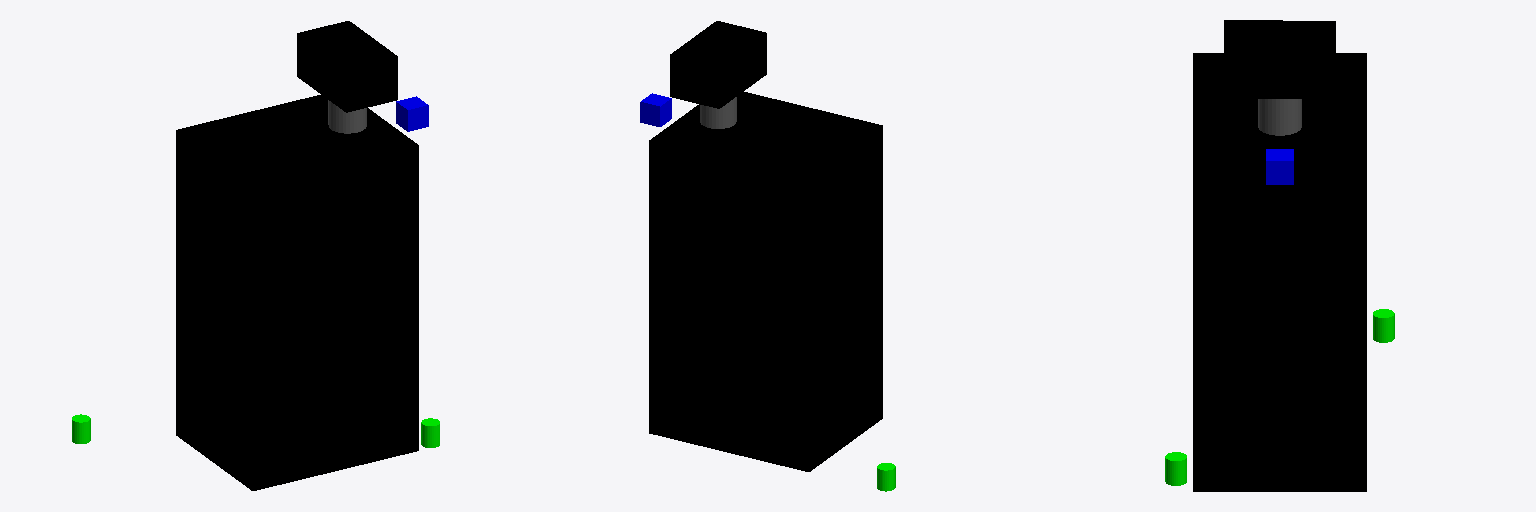
The robot description file, URDF, robot "ranger_mini_v3":
<?xml version="1.0" encoding="utf-8"?>
<!-- URDF para el Ranger Mini con materiales mate y un láser en verde, 
     asegurando que cada "collision" tenga el mismo <origin> que "visual". -->
<robot name="ranger_mini_v3">

  <!-- ==================== Base Footprint (nivel del suelo) ==================== -->
  <link name="base_footprint"/>

  <joint name="base_footprint_joint" type="fixed">
    <parent link="base_footprint"/>
    <child link="base_link"/>
    <origin xyz="0 0 0.325" rpy="0 0 0"/> <!-- Eleva base_link 10 cm -->
  </joint>

  <!-- ==================== base_link ==================== -->
  <link name="base_link">
    <inertial>
      <origin xyz="-0.0242698272228022 -0.0030308024613212 0.0544267444673498" rpy="0 0 0" />
      <mass value="0.162715996120322" />
      <inertia
        ixx="0.000723700192916944"
        ixy="-1.55745142682799E-08"
        ixz="-3.42378773027466E-12"
        iyy="0.000744046536331603"
        iyz="2.24935144207573E-07"
        izz="2.14412578189702E-05" />
    </inertial>

    <!-- Visual -->
    <visual>
      <!-- Tenías rpy="3.14 0 0" en visual -->
      <origin xyz="0 0 0.0" rpy="3.14 0 0" />
      <geometry>
        <mesh filename="package://sancho_description/meshes/ranger_mini3.stl" />
      </geometry>
      <material name="base_matte_gray">
        <color rgba="0.5 0.5 0.5 1.0" />
      </material>
    </visual>

    <!-- Collision: ahora coincide con el visual -->
    <collision>
      <origin xyz="0 0 0.0" rpy="3.14 0 0" />
      <geometry>
        <mesh filename="package://sancho_description/meshes/ranger_mini3.stl" />
      </geometry>
    </collision>
  </link>

  <!-- ==================== Frente Derecho (fr_Link) ==================== -->
  <link name="fr_Link">
    <inertial>
      <origin xyz="1.8493E-05 1.2713E-06 0.043679" rpy="0 0 0" />
      <mass value="2.2786" />
      <inertia
        ixx="0.0063625"
        ixy="-1.0581E-07"
        ixz="-4.0831E-07"
        iyy="0.006363"
        iyz="-3.4944E-08"
        izz="0.010465" />
    </inertial>

    <!-- Visual -->
    <visual>
      <origin xyz="-0.248 -0.113 0.155" rpy="1.57 0 3.14" />
      <geometry>
        <mesh filename="package://sancho_description/meshes/ranger_mini_v3_wheel_right.dae" />
      </geometry>
      <material name="wheel_matte_gray">
        <color rgba="0.3 0.3 0.3 1.0" />
      </material>
    </visual>

    <!-- Collision: unificado con el visual -->
    <collision>
      <origin xyz="-0.248 -0.113 0.155" rpy="1.57 0 3.14" />
      <geometry>
        <mesh filename="package://sancho_description/meshes/ranger_mini_v3_wheel_right.dae" />
      </geometry>
    </collision>
  </link>

  <joint name="fr_joint" type="continuous">
    <origin xyz="0.25 -0.19 -0.1" rpy="0 0 0" />
    <parent link="base_link" />
    <child link="fr_Link" />
    <axis xyz="0 0 -1" />
  </joint>

  <!-- ==================== Frente Izquierdo (fl_Link) ==================== -->
  <link name="fl_Link">
    <inertial>
      <origin xyz="-0.0017956 -9.6304E-08 0.043642" rpy="0 0 0" />
      <mass value="2.2786" />
      <inertia
        ixx="0.0063695"
        ixy="-2.1067E-08"
        ixz="-0.00016867"
        iyy="0.006363"
        iyz="-1.0301E-08"
        izz="0.010458" />
    </inertial>

    <!-- Visual -->
    <visual>
      <origin xyz="-0.248 0.1265 0.191" rpy="-1.57 0.0 3.14" />
      <geometry>
        <mesh filename="package://sancho_description/meshes/ranger_mini_v3_wheel.dae" />
      </geometry>
      <material name="wheel_matte_gray">
        <color rgba="0.3 0.3 0.3 1.0" />
      </material>
    </visual>

    <!-- Collision: unificado con el visual -->
    <collision>
      <origin xyz="-0.248 0.1265 0.191" rpy="-1.57 0.0 3.14" />
      <geometry>
        <mesh filename="package://sancho_description/meshes/ranger_mini_v3_wheel.dae" />
      </geometry>
    </collision>
  </link>

  <joint name="fl_joint" type="continuous">
    <origin xyz="0.25 0.19 -0.1" rpy="3.1416 0 0" />
    <parent link="base_link" />
    <child link="fl_Link" />
    <axis xyz="0.041054 0 -0.99916" />
  </joint>

  <!-- ==================== Parte Trasera Derecha (br_Link) ==================== -->
  <link name="br_Link">
    <inertial>
      <origin xyz="-0.00017093 6.1255E-08 0.043678" rpy="0 0 0" />
      <mass value="2.2786" />
      <inertia
        ixx="0.0063627"
        ixy="-2.1069E-08"
        ixz="-1.587E-05"
        iyy="0.006363"
        iyz="9.3201E-09"
        izz="0.010465" />
    </inertial>

    <!-- Visual -->
    <visual>
      <origin xyz="-0.241 -0.11 0.155" rpy="1.57 0 3.14" />
      <geometry>
        <mesh filename="package://sancho_description/meshes/ranger_mini_v3_wheel_right.dae" />
      </geometry>
      <material name="wheel_matte_gray">
        <color rgba="0.3 0.3 0.3 1.0" />
      </material>
    </visual>

    <!-- Collision: unificado con el visual -->
    <collision>
      <origin xyz="-0.241 -0.11 0.155" rpy="1.57 0 3.14" />
      <geometry>
        <mesh filename="package://sancho_description/meshes/ranger_mini_v3_wheel_right.dae" />
      </geometry>
    </collision>
  </link>

  <joint name="br_joint" type="continuous">
    <origin xyz="-0.25 -0.19 -0.1" rpy="0 0 0" />
    <parent link="base_link" />
    <child link="br_Link" />
    <axis xyz="0.0039668 0 -0.99999" />
  </joint>

  <!-- ==================== Parte Trasera Izquierda (bl_Link) ==================== -->
  <link name="bl_Link">
    <inertial>
      <origin xyz="-0.0011575 -4.8644E-06 0.043663" rpy="0 0 0" />
      <mass value="2.2786" />
      <inertia
        ixx="0.0063656"
        ixy="-8.1498E-08"
        ixz="-0.00011049"
        iyy="0.006363"
        iyz="6.6847E-08"
        izz="0.010462" />
    </inertial>

    <!-- Visual -->
    <visual>
      <origin xyz="-0.241 0.13 0.2" rpy="-1.57 0.0 3.14" />
      <geometry>
        <mesh filename="package://sancho_description/meshes/ranger_mini_v3_wheel.dae" />
      </geometry>
      <material name="wheel_matte_gray">
        <color rgba="0.3 0.3 0.3 1.0" />
      </material>
    </visual>

    <!-- Collision: unificado con el visual -->
    <collision>
      <origin xyz="-0.241 0.13 0.2" rpy="-1.57 0.0 3.14" />
      <geometry>
        <mesh filename="package://sancho_description/meshes/ranger_mini_v3_wheel.dae" />
      </geometry>
    </collision>
  </link>

  <joint name="bl_joint" type="continuous">
    <origin xyz="-0.25 0.19 -0.1" rpy="3.1416 0 0" />
    <parent link="base_link" />
    <child link="bl_Link" />
    <axis xyz="0.027043 0 -0.99963" />
  </joint>

  <!-- ==================== Láseres ==================== -->

  <!-- Láser Frontal -->
  <!-- Se publicará en el topic 'scan_1st' con frame_id 'laser_front' -->
  <link name="laser_front">
    <inertial>
      <origin xyz="0 0 0" rpy="0 0 0"/>
      <mass value="0.1"/>
      <inertia ixx="0.001" iyy="0.001" izz="0.001" ixy="0" ixz="0" iyz="0"/>
    </inertial>

    <visual>
      <origin xyz="0 0 0" rpy="0 0 0"/>
      <geometry>
        <cylinder length="0.05" radius="0.02"/>
      </geometry>
      <material name="laser_green">
        <color rgba="0.0 1.0 0.0 1.0"/>
      </material>
    </visual>

    <!-- Collision coincide con visual -->
    <collision>
      <origin xyz="0 0 0" rpy="0 0 0"/>
      <geometry>
        <cylinder length="0.05" radius="0.02"/>
      </geometry>
    </collision>
  </link>

  <joint name="base_to_laser_front" type="fixed">
    <!-- Ajusta si necesitas mover el láser frontal en X/Y/Z -->
    <origin xyz="0.31 -0.19 0.04" rpy="0 0 -0.785398"/>
    <parent link="base_link"/>
    <child link="laser_front"/>
  </joint>

  <!-- Láser Trasero -->
  <!-- Se publicará en el topic 'scan_2nd' con frame_id 'laser_back' -->
  <link name="laser_back">
    <inertial>
      <origin xyz="0 0 0" rpy="0 0 0"/>
      <mass value="0.1"/>
      <inertia ixx="0.001" iyy="0.001" izz="0.001" ixy="0" ixz="0" iyz="0"/>
    </inertial>

    <visual>
      <origin xyz="0 0 0" rpy="0 0 0"/>
      <geometry>
        <cylinder length="0.05" radius="0.02"/>
      </geometry>
      <material name="laser_green">
        <color rgba="0.0 1.0 0.0 1.0"/>
      </material>
    </visual>

    <!-- Collision coincide con visual -->
    <collision>
      <origin xyz="0 0 0" rpy="0 0 0"/>
      <geometry>
        <cylinder length="0.05" radius="0.02"/>
      </geometry>
    </collision>
  </link>

  <joint name="base_to_laser_back" type="fixed">
    <!-- Ubicación en la parte trasera (eje X negativo) -->
    <origin xyz="-0.31 0.19 0.04" rpy="0 0 2.35619"/>
    <parent link="base_link"/>
    <child link="laser_back"/>
  </joint>

  <!-- Astra Cámara -->
  <link name="astra_camera_link">
      <visual>
          <geometry>
              <box size="0.05 0.05 0.05"/> <!-- Representación visual de la cámara -->
          </geometry>
          <material name="camera_blue">
            <color rgba="0.0 0.0 1.0 1.0"/>
          </material>
      </visual>
  </link>

  <!-- Unión de la cámara con la base -->
  <joint name="base_to_camera" type="fixed">
      <parent link="base_link"/>
      <child link="astra_camera_link"/>
      <origin xyz="0.375 0 0.68" rpy="0 0 0"/> <!-- Posición y orientación de la cámara -->
  </joint>
<!-- Cuadro Negro (desde el centro hasta el borde superior, hasta la cámara) -->
<link name="body_link">
  <visual>
    <origin xyz="0.1 0 0.34" rpy="0 0 0"/>
    <geometry>
      <box size="0.4 0.32 0.7"/>
    </geometry>
    <material name="black_material">
      <color rgba="0 0 0 1.0"/>
    </material>
  </visual>
  <collision>
    <origin xyz="0.1 0 0.34" rpy="0 0 0"/>
    <geometry>
      <box size="0.4 0.32 0.7"/>
    </geometry>
  </collision>
</link>

<joint name="body_link_joint" type="fixed">
  <parent link="base_link"/>
  <child link="body_link"/>
  <origin xyz="0 0 0" rpy="0 0 0"/>
</joint>

<!-- Link para el eje de paneo (base de la torreta) -->
<link name="turret_pan_link">
  <visual>
    <geometry>
      <cylinder radius="0.04" length="0.08"/>
    </geometry>
    <origin xyz="0 0 0" rpy="0 0 0"/>
    <material name="black">
      <color rgba="0.4 0.4 0.4 1"/>
    </material>
  </visual>
</link>

<joint name="pan" type="revolute">
  <parent link="body_link"/> <!-- Ahora se monta directamente sobre el cuerpo -->
  <child link="turret_pan_link"/>
  <origin xyz="0.22 0 0.725" rpy="0 0 0"/> <!-- Ajustado para quedar encima del cuerpo -->
  <axis xyz="0 0 1"/>
  <limit lower="-3.14" upper="3.14" effort="1.0" velocity="1.0"/>
</joint>

<!-- Link para la inclinación (tilt) -->
<link name="turret_tilt_link">
  <visual>
    <geometry>
      <box size="0.05 0.1 0.025"/>
    </geometry>
    <origin xyz="0 0 0" rpy="0 0 0"/>
    <material name="gray">
      <color rgba="0.3 0.3 0.3 1"/>
    </material>
  </visual>
</link>

<joint name="tilt" type="revolute">
  <parent link="turret_pan_link"/>
  <child link="turret_tilt_link"/>
  <origin xyz="0 0 0.05" rpy="0 0 0"/>
  <axis xyz="0 1 0"/>
  <limit lower="-1.57" upper="1.57" effort="1.0" velocity="1.0"/>
</joint>

<!-- Cabeza encima de la torreta -->
<link name="head_link">
  <visual>
    <origin xyz="0 0 0.05" rpy="0 0 1.57"/> <!-- Un poco más arriba de tilt -->
    <geometry>
      <box size="0.205 0.125 0.1"/>
    </geometry>
    <material name="head_gray">
      <color rgba="0 0 0 1.0"/>
    </material>
  </visual>
</link>

<joint name="tilt_to_head" type="fixed">
  <parent link="turret_tilt_link"/>
  <child link="head_link"/>
  <origin xyz="0 0 0" rpy="0 0 0"/>
</joint>

<link name="nose_camera_link">
  <visual>
    <origin xyz="0 0 0" rpy="0 0 0"/>
    <geometry>
      <box size="0.03 0.03 0.03"/>
    </geometry>
    <material name="red"><color rgba="1 0 0 1"/></material>
  </visual>
</link>

<joint name="head_to_nose_camera" type="fixed">
  <parent link="head_link"/>
  <child link="nose_camera_link"/>
  <origin xyz="0.037 0.0 0.061" rpy="0 0 0"/>
</joint>



</robot>

--- Render facts (derived) ---
Views: 3 orthographic renders of the robot side by side, from view 1: azimuth 30°, elevation 25°; view 2: azimuth 150°, elevation 25°; view 3: azimuth 270°, elevation 25°.
Robot: ranger_mini_v3 — 14 links, 13 joints (2 revolute, 4 continuous, 7 fixed); root link base_footprint; default pose: every joint at zero.
Links seen in each view (by area): view 1: body_link, head_link, astra_camera_link, turret_pan_link, laser_front, laser_back; view 2: body_link, head_link, astra_camera_link, turret_pan_link; view 3: body_link, head_link, turret_pan_link, astra_camera_link, laser_front, laser_back.
Link boxes in pixels (box(x1,y1,x2,y2)): body_link: box(176, 95, 418, 490); head_link: box(297, 21, 397, 112); astra_camera_link: box(396, 96, 428, 131); turret_pan_link: box(328, 100, 366, 133); laser_front: box(421, 418, 439, 447); laser_back: box(72, 414, 90, 443); body_link: box(649, 92, 882, 471); head_link: box(670, 21, 766, 108); astra_camera_link: box(640, 93, 671, 126); turret_pan_link: box(700, 97, 736, 128); body_link: box(1193, 53, 1366, 491); head_link: box(1224, 20, 1335, 98); turret_pan_link: box(1258, 99, 1301, 135); astra_camera_link: box(1266, 149, 1293, 184); laser_front: box(1165, 452, 1186, 485); laser_back: box(1373, 309, 1394, 342).
Bounding box of the posed robot: 0.73 × 0.42 × 0.885 m (x, y, z).
Meshes: 3 distinct files referenced, 0 mesh visuals loaded (none loaded); not drawn: 5 (reference not matched to a file when rendering).
